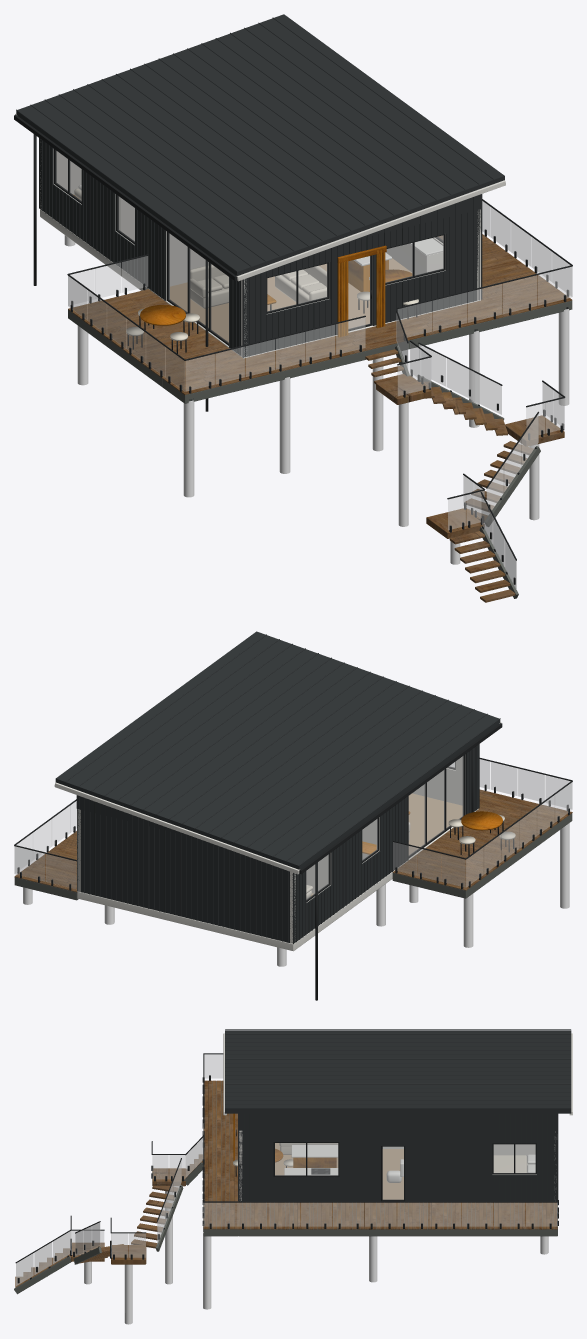
File: house.glb
3 views of the same model, one above another, from view 1: azimuth 30°, elevation 25°; view 2: azimuth 150°, elevation 25°; view 3: azimuth 270°, elevation 25° (orthographic). The views are drawn at different scales.
Visible parts, largest first — view 1: ROOF | mono-pitch assumption 6.28 degrees, Deck frame Front, Glazing | west, Metal skin | front.008, Oak finish | continuous internal floor, Metal skin | west.005, Metal skin | front.001, Metal skin | front.006, Metal skin | west.002, Glazing | front, Glazing | front.002, Metal skin | front (+51 smaller); view 2: ROOF | mono-pitch assumption 6.28 degrees, Metal skin | back, Glazing | west, Floor slab | 7.680m × 11.380m concept envelope, Metal skin | west.005, Oak finish | continuous internal floor, Metal skin | west.002, White soffit.001, Deck frame West, West gutter, Raking gable closure | back, Low iron balustrade panel.032 (+28 smaller); view 3: ROOF | mono-pitch assumption 6.28 degrees, Metal skin | east.005, Metal skin | east.003, Deck frame East, Metal skin | east, Glazing | east, Metal skin | east.002, Metal skin | east.008, Metal skin | east.001, Metal skin | east.007, Metal skin | east.006, Glazing | east.002 (+50 smaller).
Boxes of the visible parts, left/top/right/bottom form: ROOF | mono-pitch assumption 6.28 degrees: left=16, top=14, right=504, bottom=275; Deck frame Front: left=163, top=300, right=572, bottom=403; Glazing | west: left=169, top=233, right=228, bottom=343; Metal skin | front.008: left=446, top=209, right=481, bottom=307; Oak finish | continuous internal floor: left=170, top=258, right=411, bottom=342; Metal skin | west.005: left=81, top=169, right=115, bottom=262; Metal skin | front.001: left=267, top=299, right=330, bottom=351; Metal skin | front.006: left=385, top=270, right=446, bottom=322; Metal skin | west.002: left=135, top=208, right=166, bottom=300; Glazing | front: left=267, top=264, right=327, bottom=311; Glazing | front.002: left=385, top=235, right=443, bottom=282; Metal skin | front: left=244, top=271, right=266, bottom=357; ROOF | mono-pitch assumption 6.28 degrees: left=55, top=631, right=500, bottom=869; Metal skin | back: left=77, top=809, right=292, bottom=942; Glazing | west: left=409, top=756, right=463, bottom=855; Floor slab | 7.680m × 11.380m concept envelope: left=77, top=809, right=478, bottom=951; Metal skin | west.005: left=331, top=830, right=362, bottom=915; Oak finish | continuous internal floor: left=312, top=793, right=462, bottom=894; Metal skin | west.002: left=380, top=797, right=407, bottom=879; White soffit.001: left=54, top=782, right=299, bottom=874; Deck frame West: left=392, top=828, right=552, bottom=898; West gutter: left=299, top=723, right=502, bottom=874; Raking gable closure | back: left=76, top=795, right=192, bottom=836; Low iron balustrade panel.032: left=46, top=854, right=76, bottom=888; ROOF | mono-pitch assumption 6.28 degrees: left=225, top=1030, right=571, bottom=1113; Metal skin | east.005: left=405, top=1113, right=492, bottom=1201; Metal skin | east.003: left=340, top=1113, right=380, bottom=1201; Deck frame East: left=238, top=1203, right=557, bottom=1236; Metal skin | east: left=239, top=1113, right=273, bottom=1201; Glazing | east: left=275, top=1143, right=337, bottom=1175; Metal skin | east.002: left=273, top=1113, right=339, bottom=1141; Metal skin | east.008: left=537, top=1113, right=557, bottom=1201; Metal skin | east.001: left=273, top=1177, right=339, bottom=1201; Metal skin | east.007: left=492, top=1113, right=536, bottom=1143; Metal skin | east.006: left=492, top=1175, right=536, bottom=1201; Glazing | east.002: left=494, top=1144, right=535, bottom=1172.
Size of the model in its own units: 12.54 by 9.13 by 19.93.
Materials: 20 (11 with a texture image).
